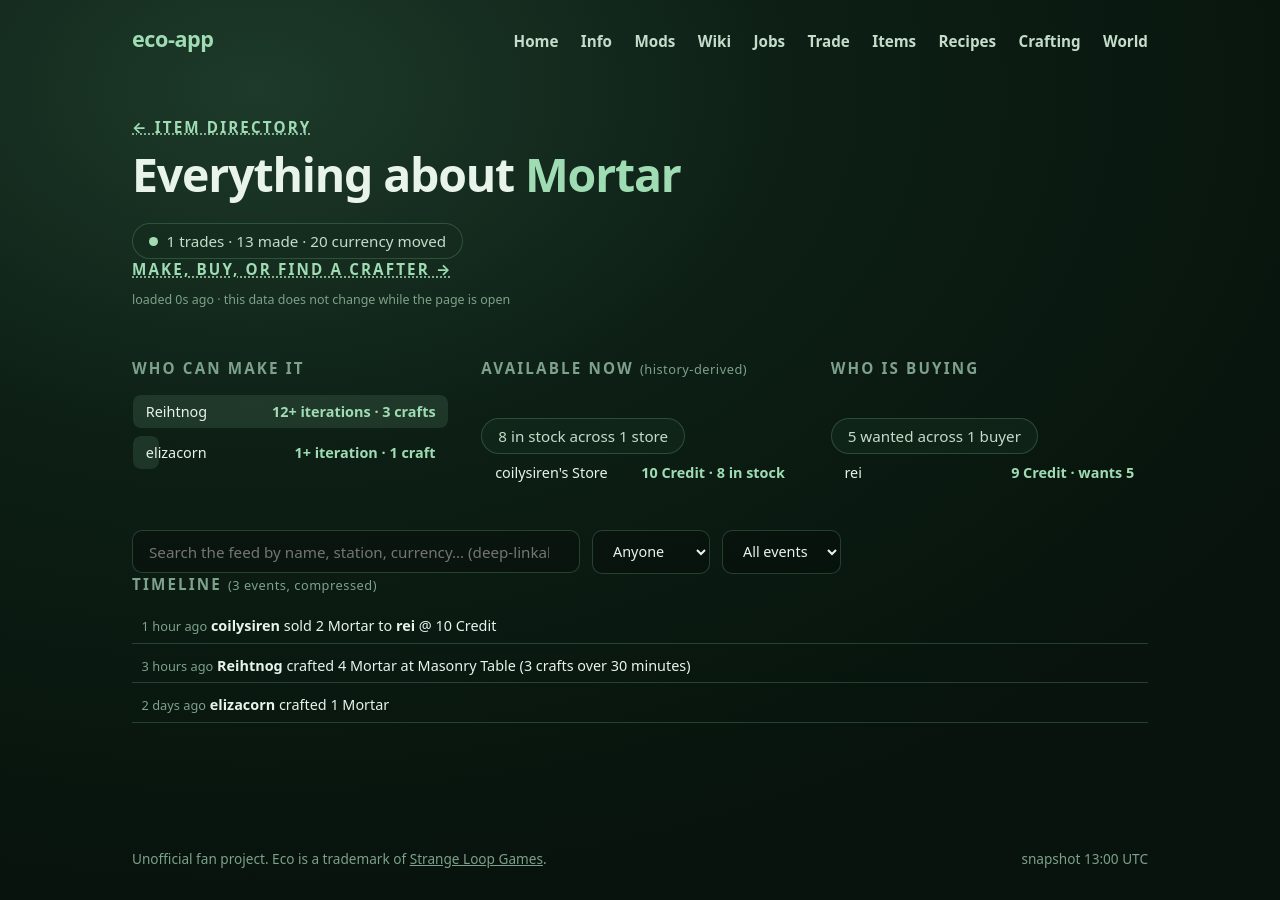
Test: Item › filters the feed by event type
Expected: the number of list items with test id "item-feed-row" is 3, [132,610,1148,644]; [132,649,1148,683]; [132,689,1148,723]
Select "Trades" in the dropdown with test id "item-type-filter": (782, 552) [722,530,841,574]
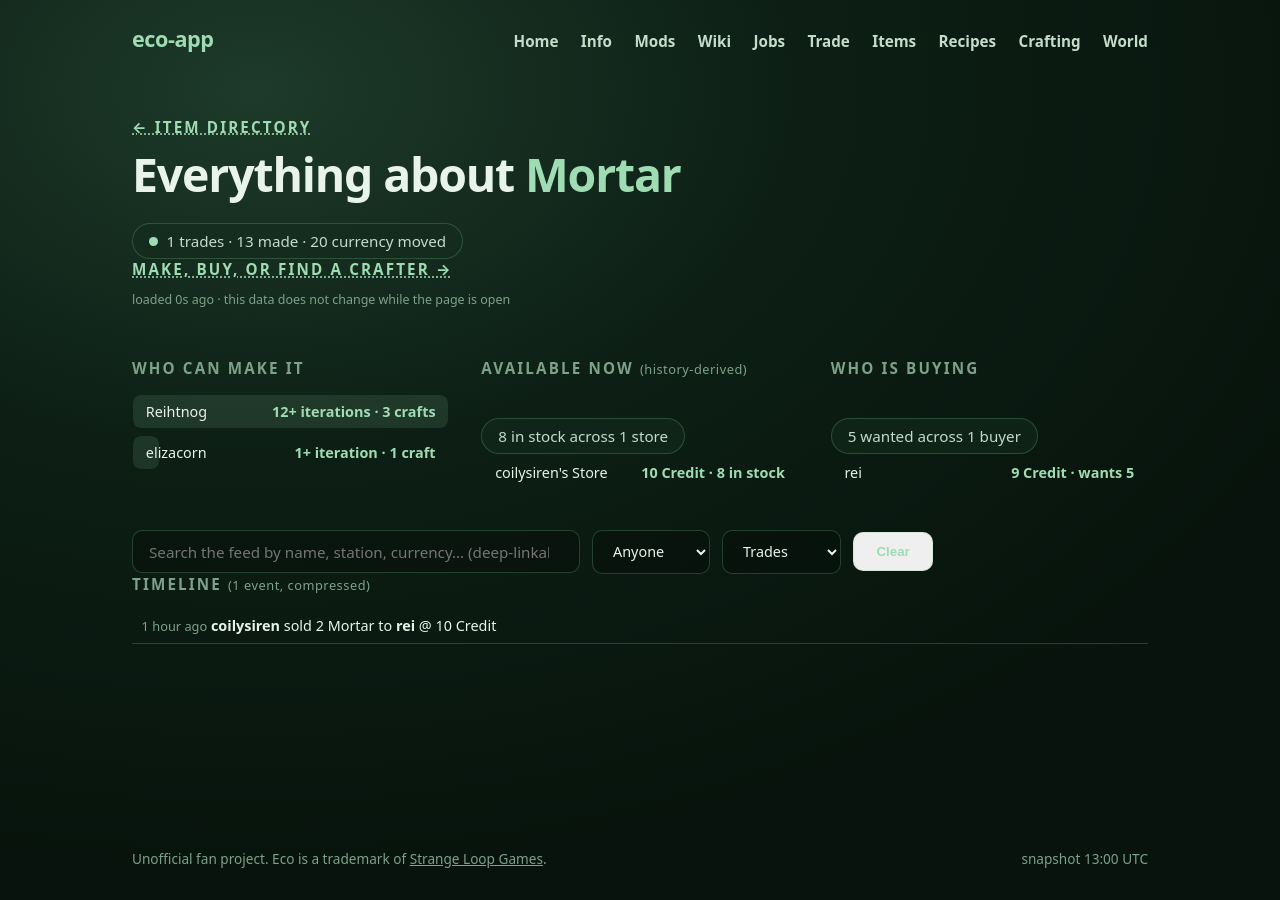
Expected: the list item with test id "item-feed-row" shows "coilysiren sold 2 Mortar", [132,610,1148,644]
Expected: the number of list items with test id "item-feed-row" is 1, [132,610,1148,644]
